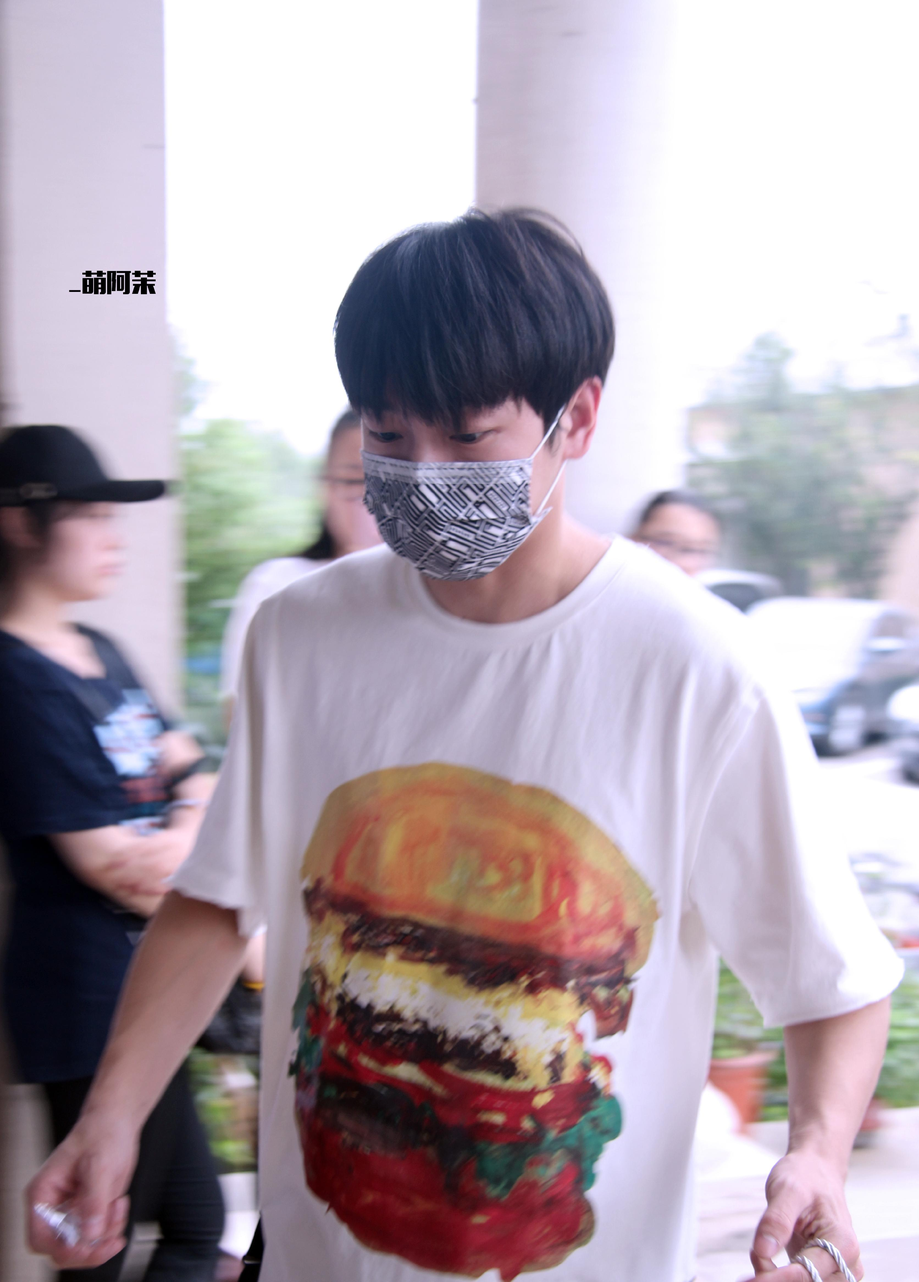NONE: (34, 500, 131, 600)
OK: (349, 382, 551, 585)
